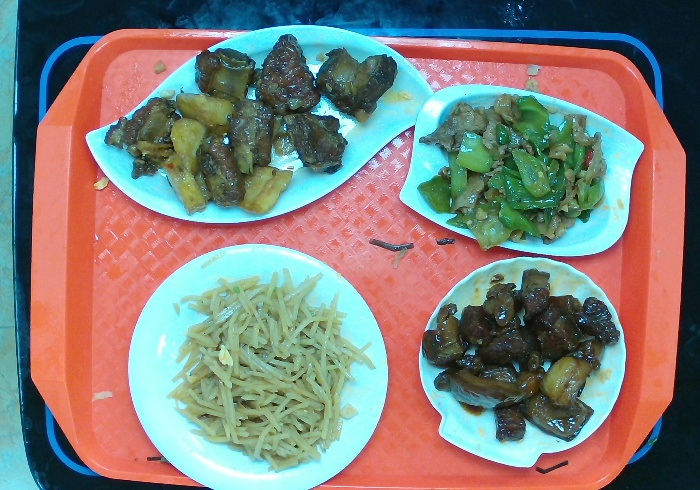RJxy-Bei_Ke_Wan: (415, 254, 626, 474)
RJxy-Jian_Jiao_Fang_Die: (400, 80, 647, 257)
RJxy-Jian_Jiao_Pan: (84, 22, 435, 226)
RJxy-Yuan_Pan: (126, 241, 392, 490)
